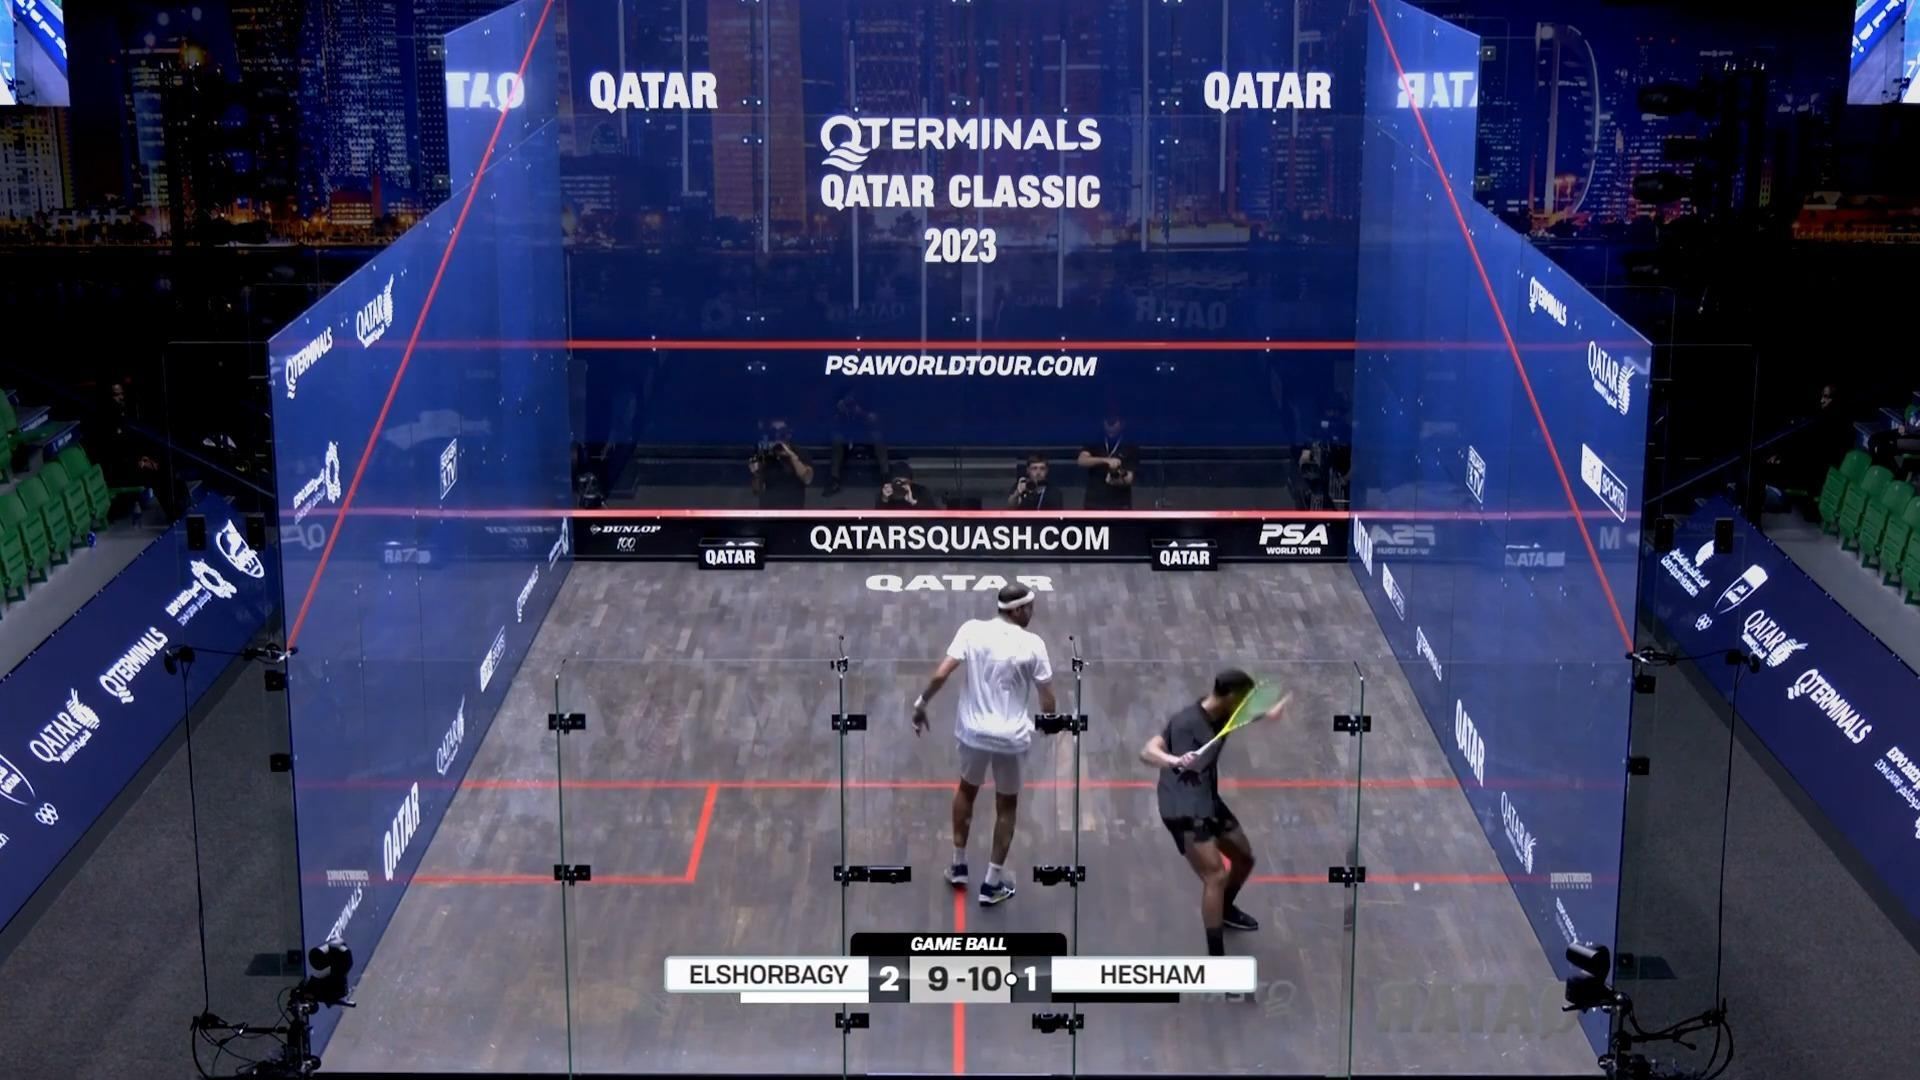Squash-Ball: (1399, 870, 1432, 905)
